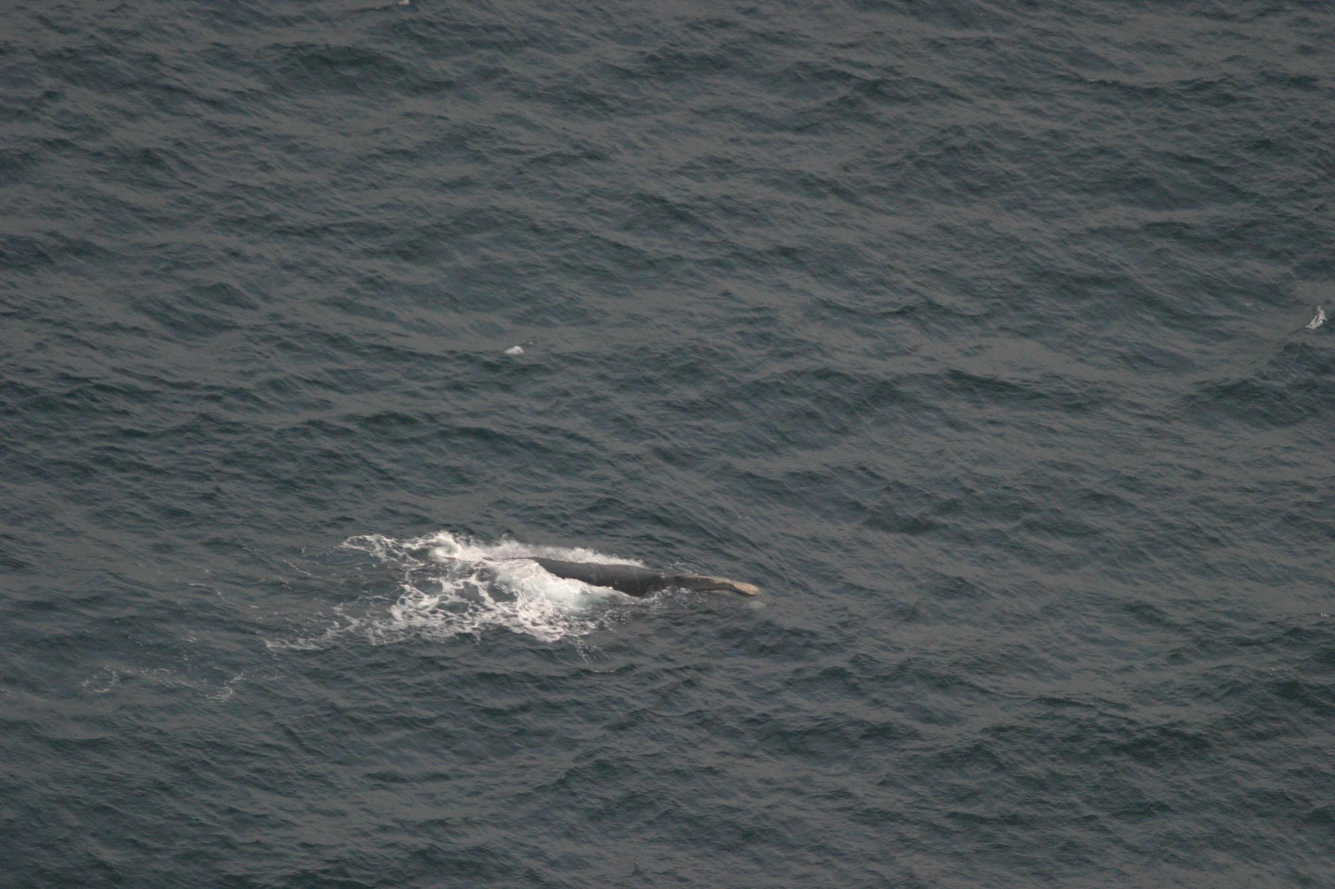whale: (441, 546, 774, 622)
